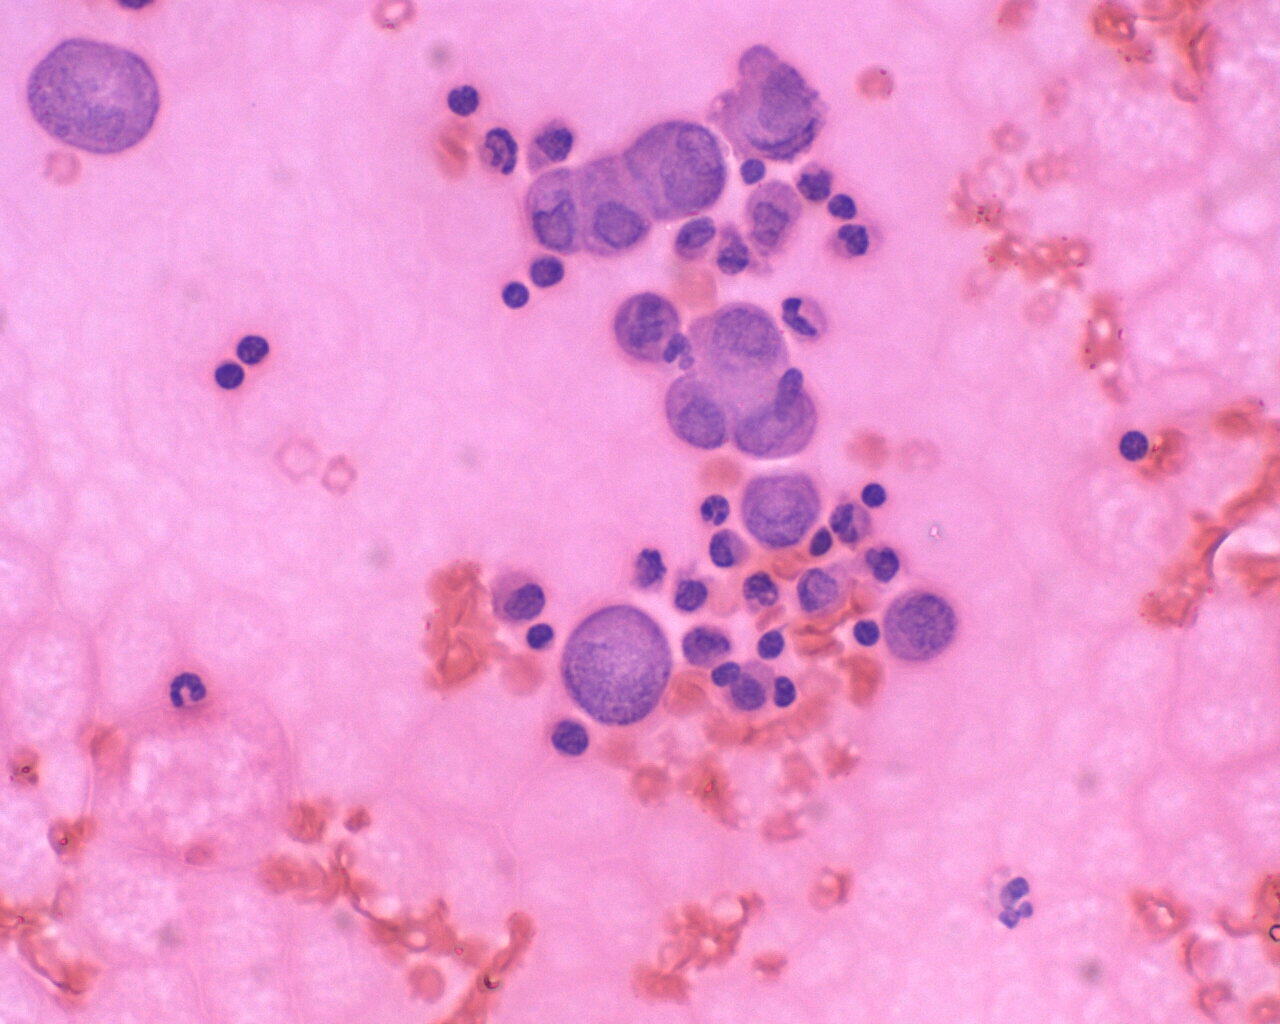ab: (21, 36, 159, 161), (561, 605, 673, 727), (637, 111, 731, 225), (693, 294, 799, 386), (725, 369, 828, 451), (738, 467, 827, 556), (875, 584, 965, 664), (608, 286, 686, 363)
lymph: (1116, 421, 1154, 469), (498, 274, 535, 317), (213, 360, 254, 396), (857, 478, 890, 513)
neutro: (163, 667, 206, 715), (696, 487, 739, 529)
